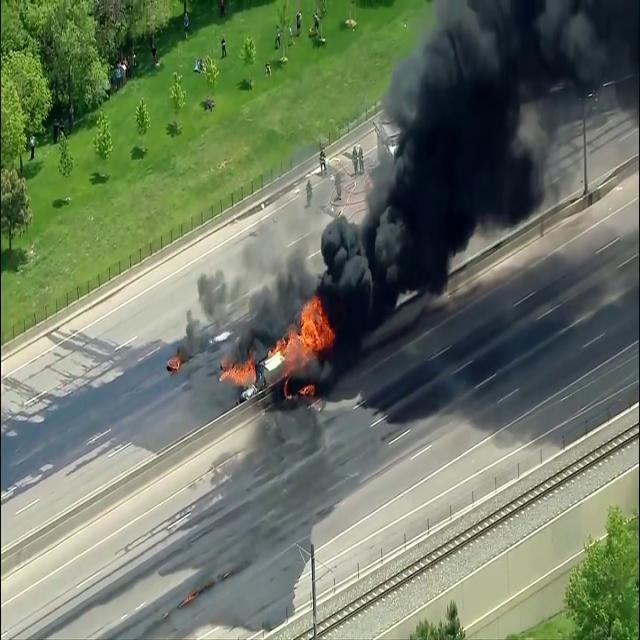Fire: (264, 291, 335, 388), (222, 352, 258, 392)
Smoke: (323, 0, 638, 355), (170, 202, 302, 362)
